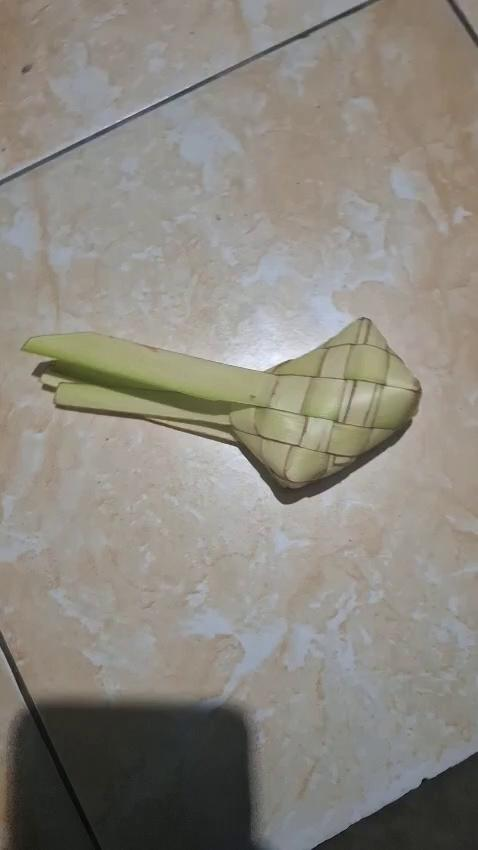Tipat Bantal: (27, 313, 429, 511)
